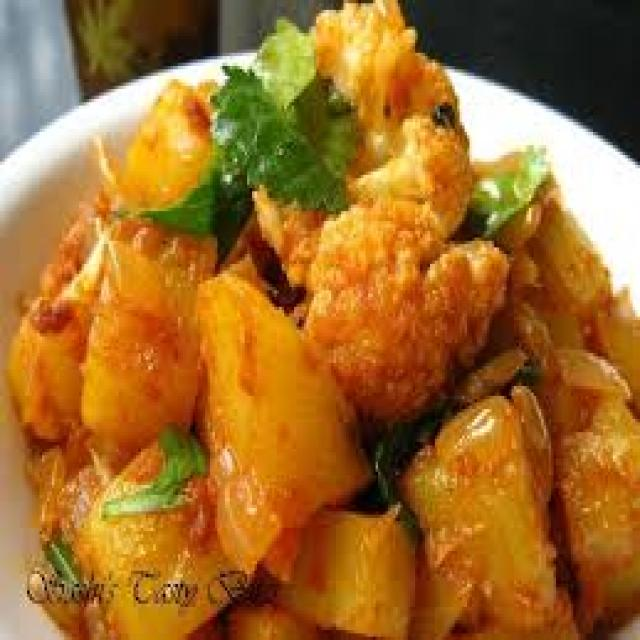Aloo Gobi: (76, 11, 550, 628)
